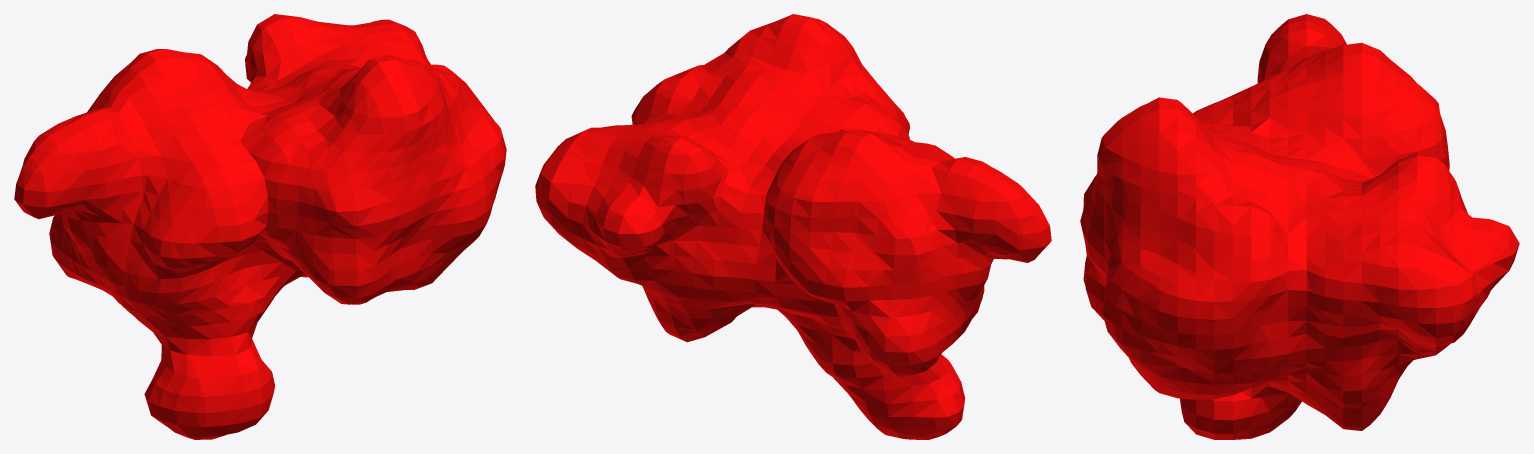
The model's file is yceA_coarse.dae.
3 views of the same model, side by side, from view 1: azimuth 30°, elevation 25°; view 2: azimuth 150°, elevation 25°; view 3: azimuth 270°, elevation 25° (orthographic). The views are drawn at different scales.
Visible parts, largest first — view 1: yceA; view 2: yceA; view 3: yceA.
Part boxes in pixels (x1,y1,x2,y2): yceA: [14, 14, 506, 439]; yceA: [535, 14, 1051, 439]; yceA: [1080, 14, 1519, 439].
Size of the model in its own units: 76.76 by 58.96 by 56.88.
